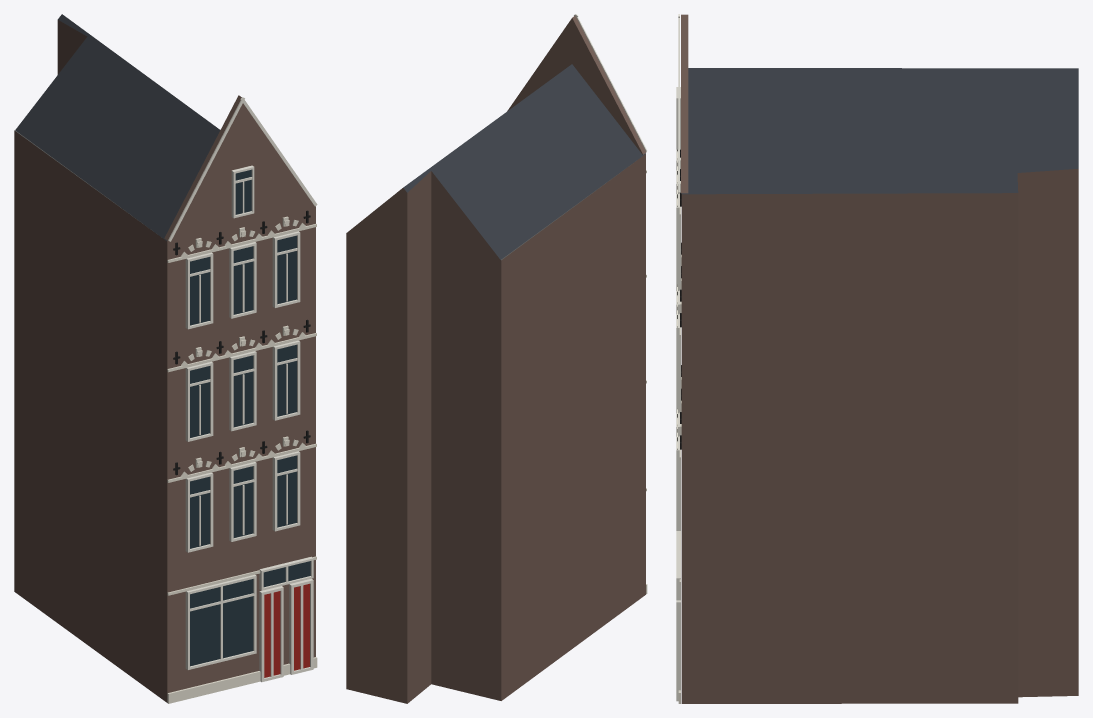
3 views of the same model, side by side, from view 1: azimuth 30°, elevation 25°; view 2: azimuth 150°, elevation 25°; view 3: azimuth 270°, elevation 25° (orthographic). The views are drawn at different scales.
Visible parts, largest first — view 1: spec-0363100012159954; view 2: spec-0363100012159954; view 3: spec-0363100012159954.
Boxes of the visible parts, left/top/right/bottom form: spec-0363100012159954: left=14, top=14, right=317, bottom=703; spec-0363100012159954: left=346, top=14, right=647, bottom=703; spec-0363100012159954: left=676, top=14, right=1078, bottom=703.
Bounding box in the file's own units: 4.72 × 17.75 × 9.96.
